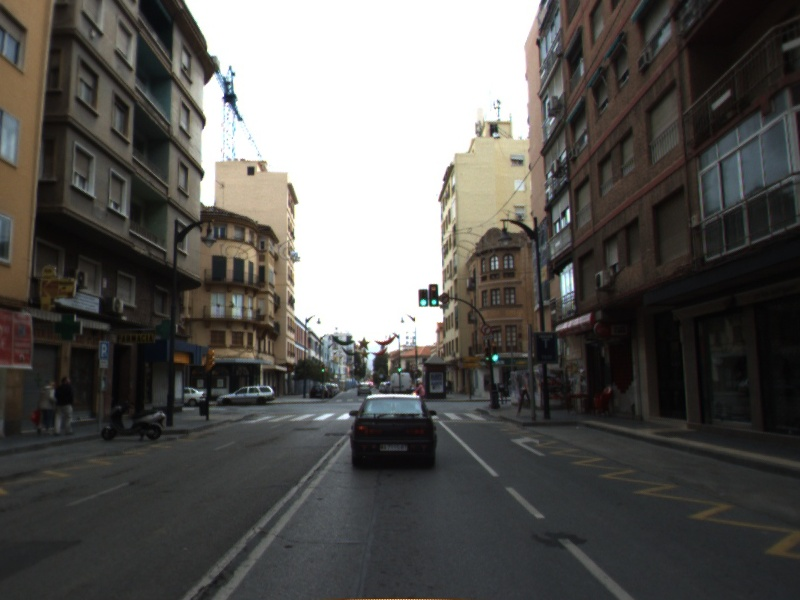RIGHT: (508, 434, 546, 457)
